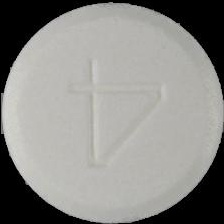0603-2339: (0, 0, 224, 224)
